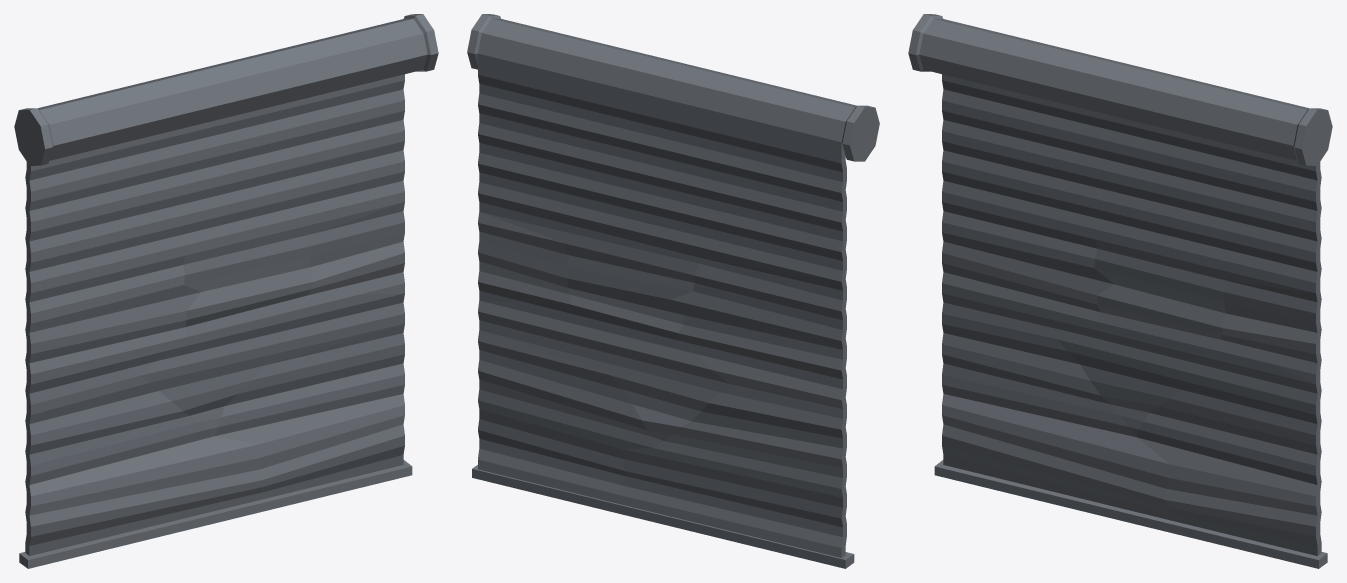
The model's file is SM_Bld_Door_Garage_01.glb.
The picture shows the model from 3 angles, left to right: view 1: azimuth 30°, elevation 25°; view 2: azimuth 150°, elevation 25°; view 3: azimuth 330°, elevation 25°; orthographic projection. The views are drawn at different scales.
Visible parts, largest first — view 1: SM_Bld_Door_Garage_01; view 2: SM_Bld_Door_Garage_01; view 3: SM_Bld_Door_Garage_01.
Boxes of the visible parts, x1,y1,x2,y2 form: SM_Bld_Door_Garage_01: [14, 14, 438, 568]; SM_Bld_Door_Garage_01: [467, 14, 879, 568]; SM_Bld_Door_Garage_01: [908, 14, 1332, 568].
Size of the model in its own units: 2.77 by 3.12 by 0.4268.
Materials: 1 (1 with a texture image).
